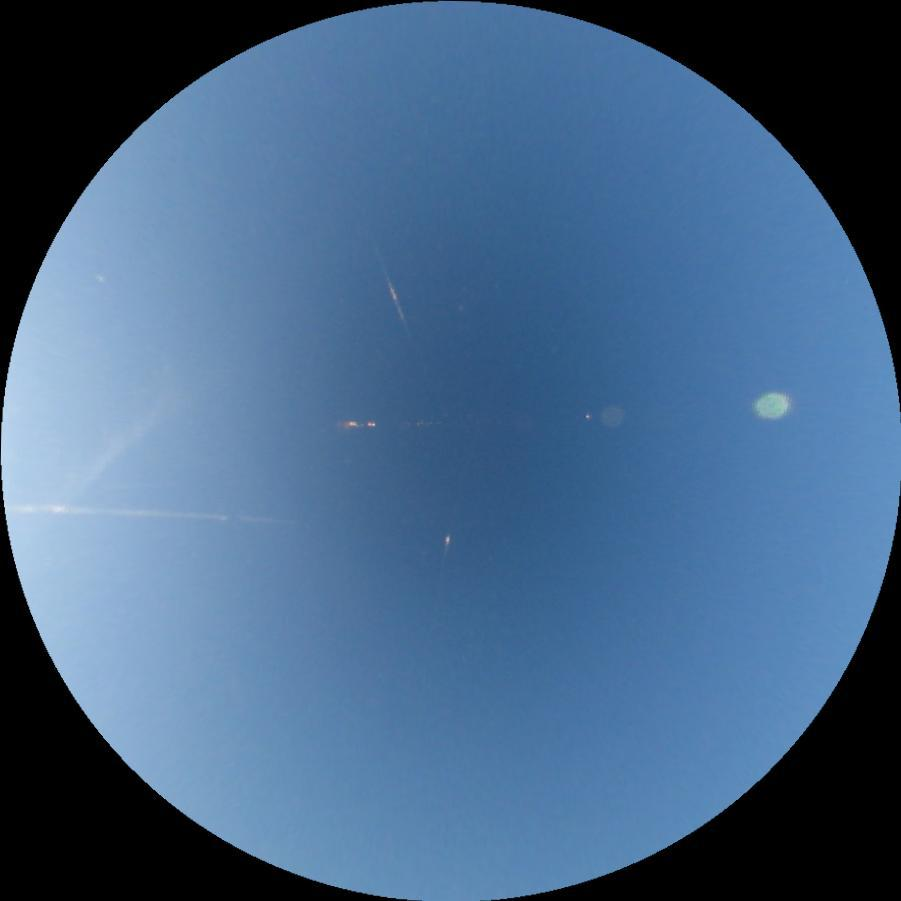parasite: (5, 501, 289, 524), (377, 255, 413, 344), (440, 533, 451, 567)
unknow: (3, 384, 172, 549)
